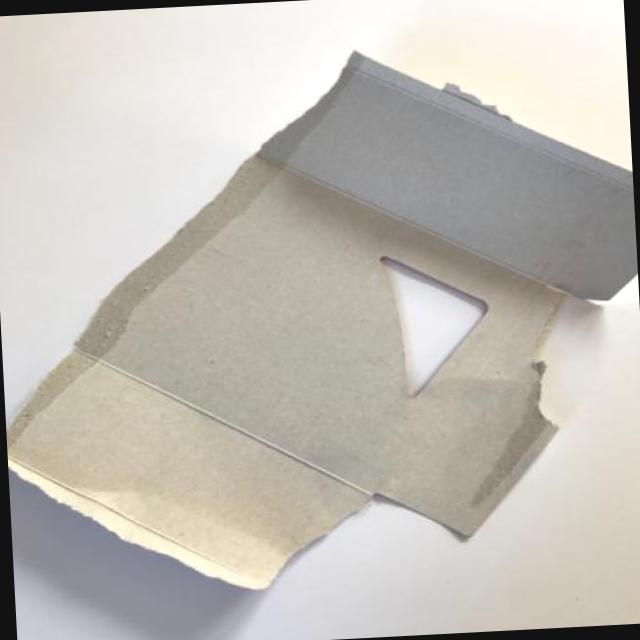paper: (0, 74, 640, 607)
